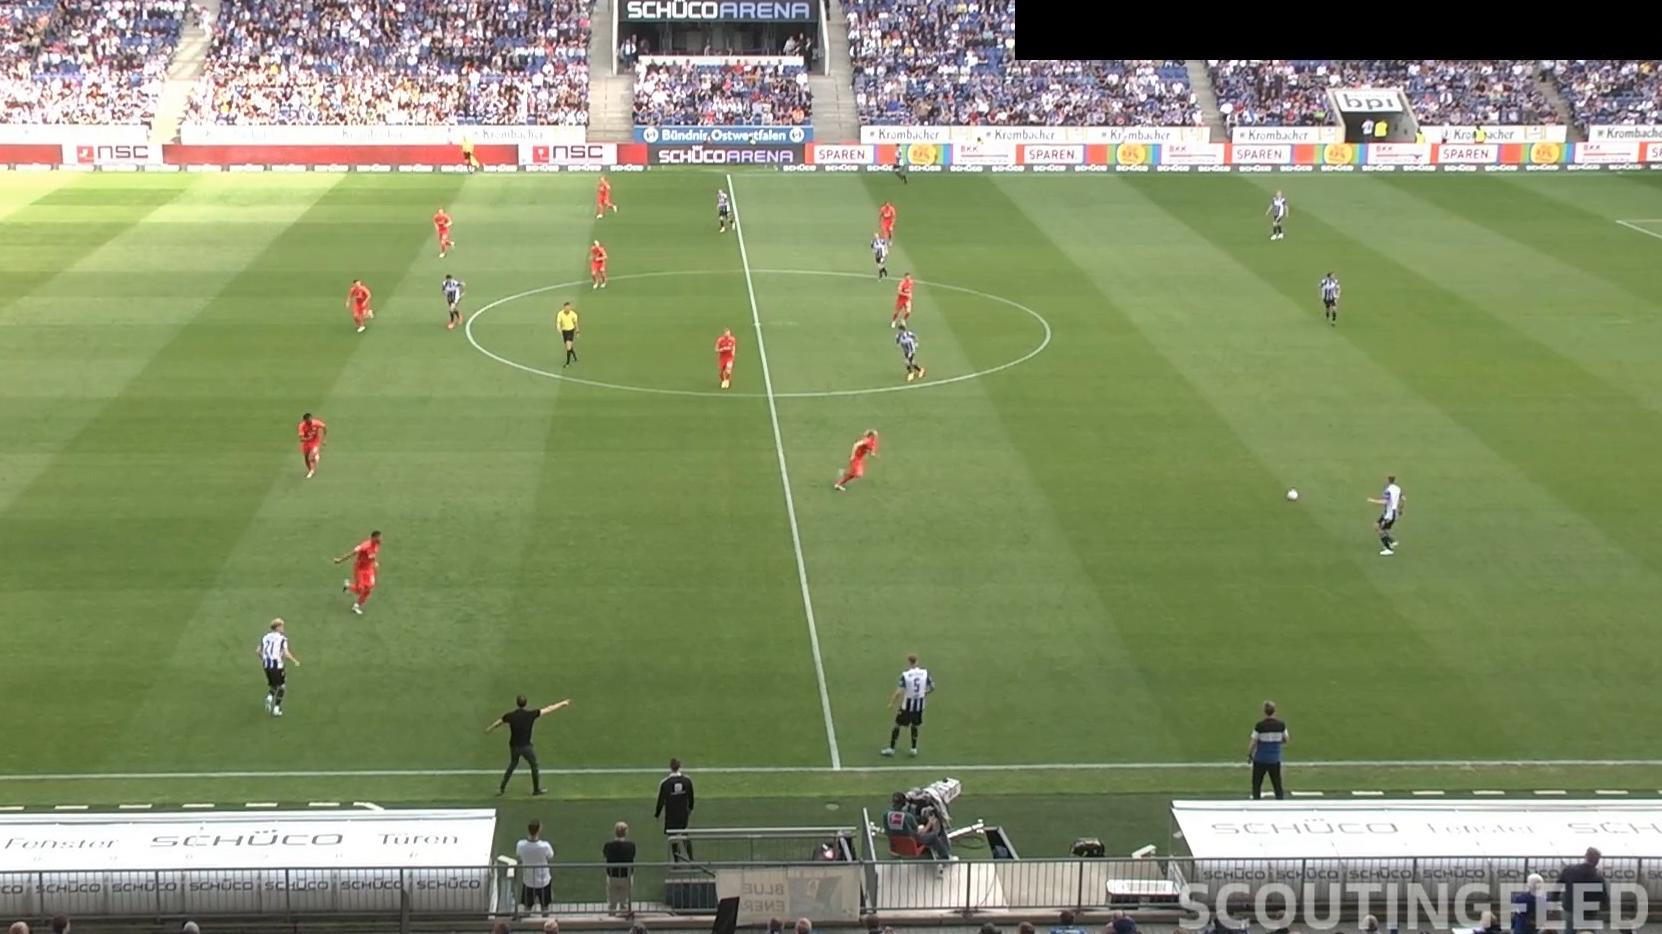ball: (1286, 489, 1299, 502)
